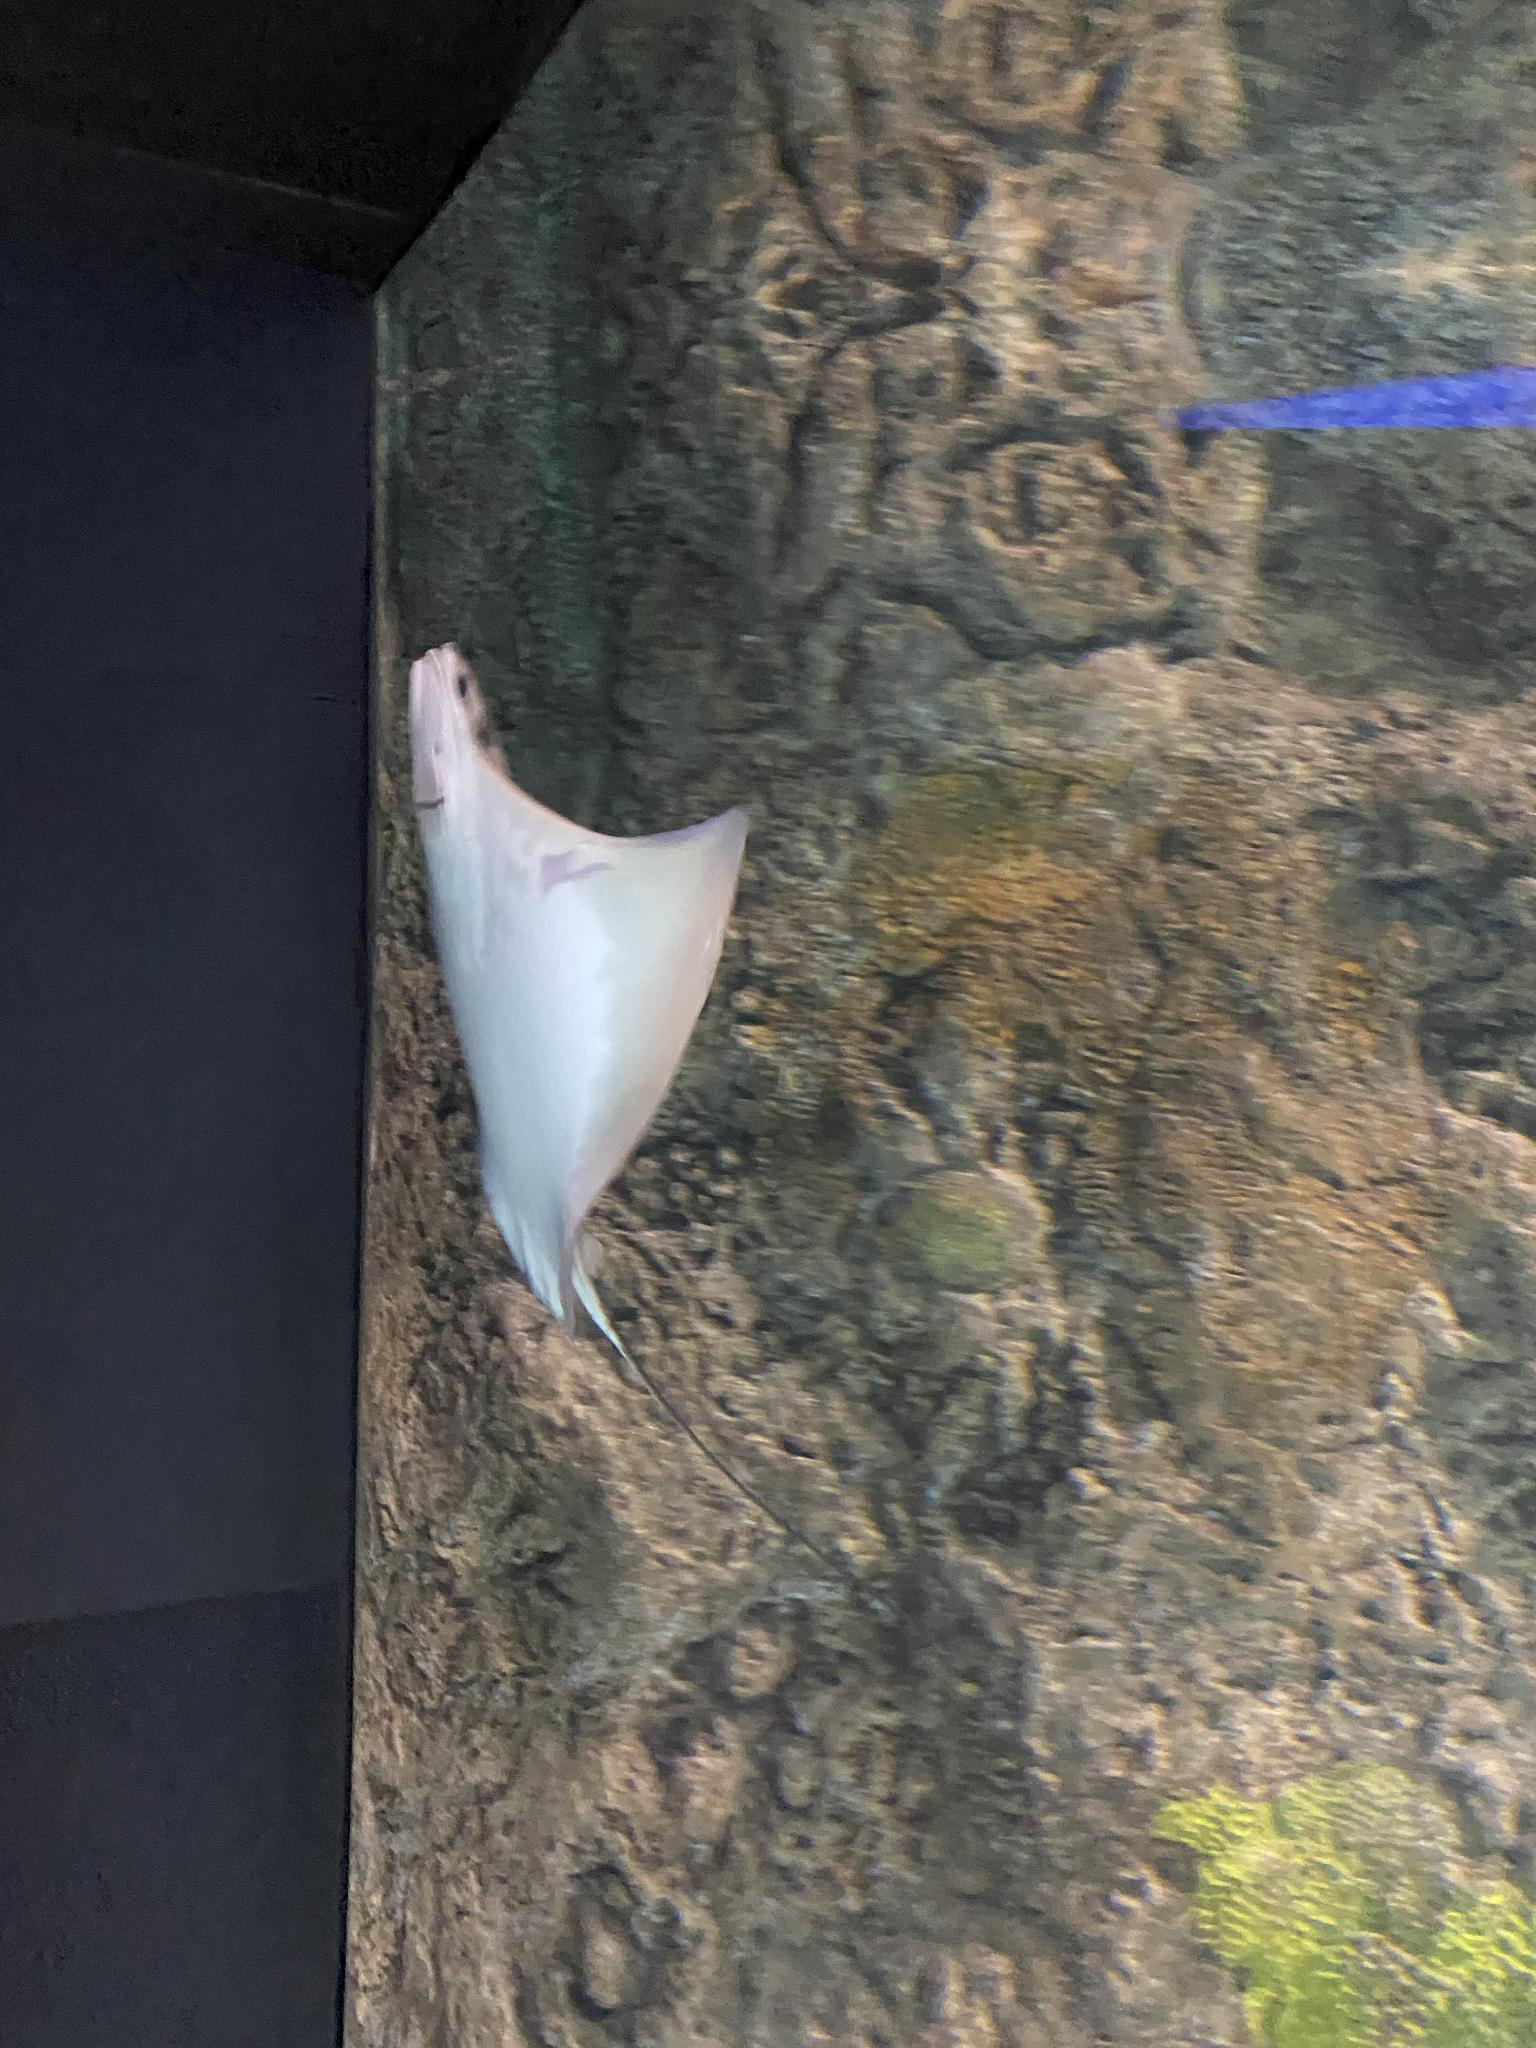stingray: (400, 645, 729, 1330)
